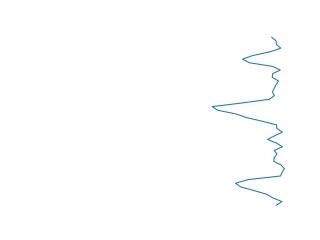underwaterNaturalLevee: (207, 35, 289, 206)
